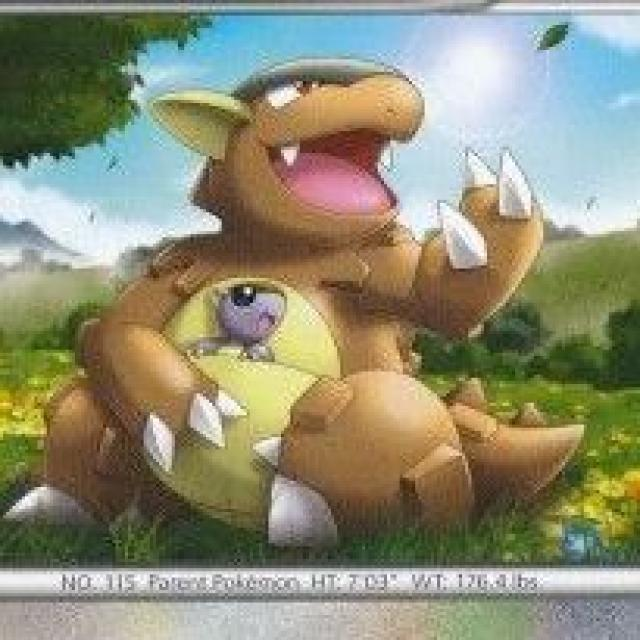Kangaskhan: (6, 54, 594, 547)
